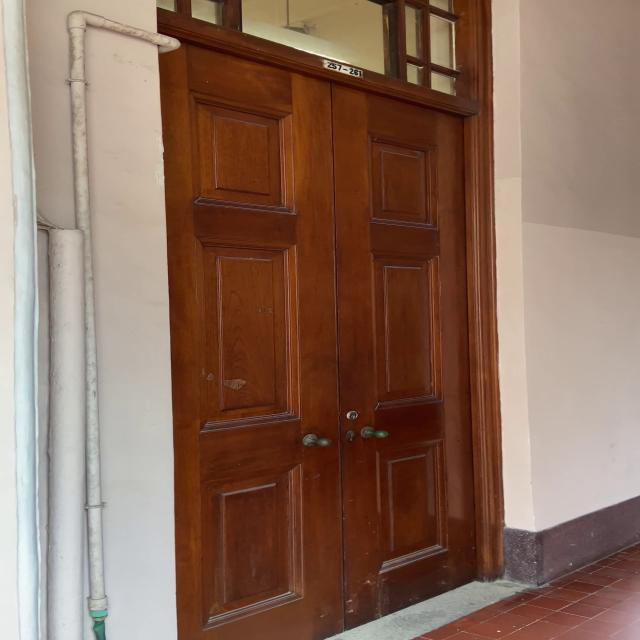room257: (314, 58, 367, 82)
room257door: (156, 9, 507, 639)
